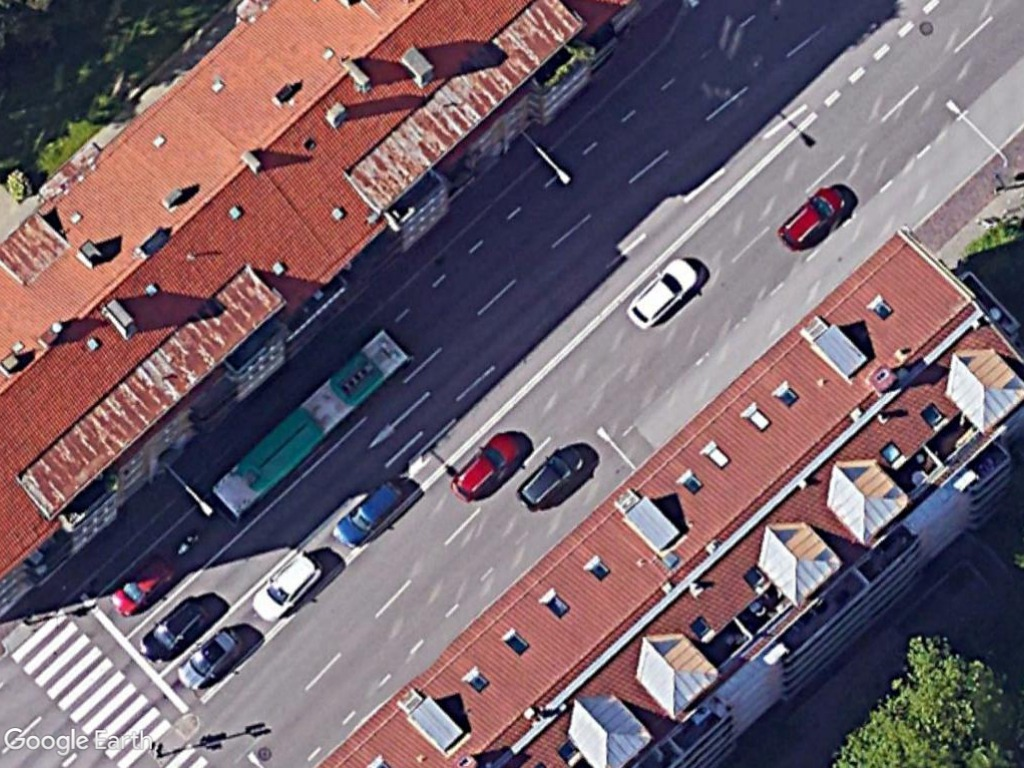bus: (207, 321, 415, 525)
car: (621, 254, 706, 330), (106, 540, 184, 622), (247, 545, 326, 621), (450, 425, 523, 506), (134, 589, 212, 664), (774, 179, 849, 256), (335, 471, 408, 550), (515, 441, 588, 514), (171, 623, 241, 694)
